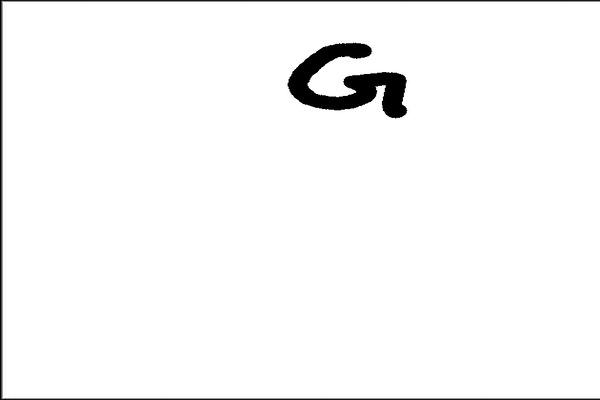G: (283, 38, 413, 122)
